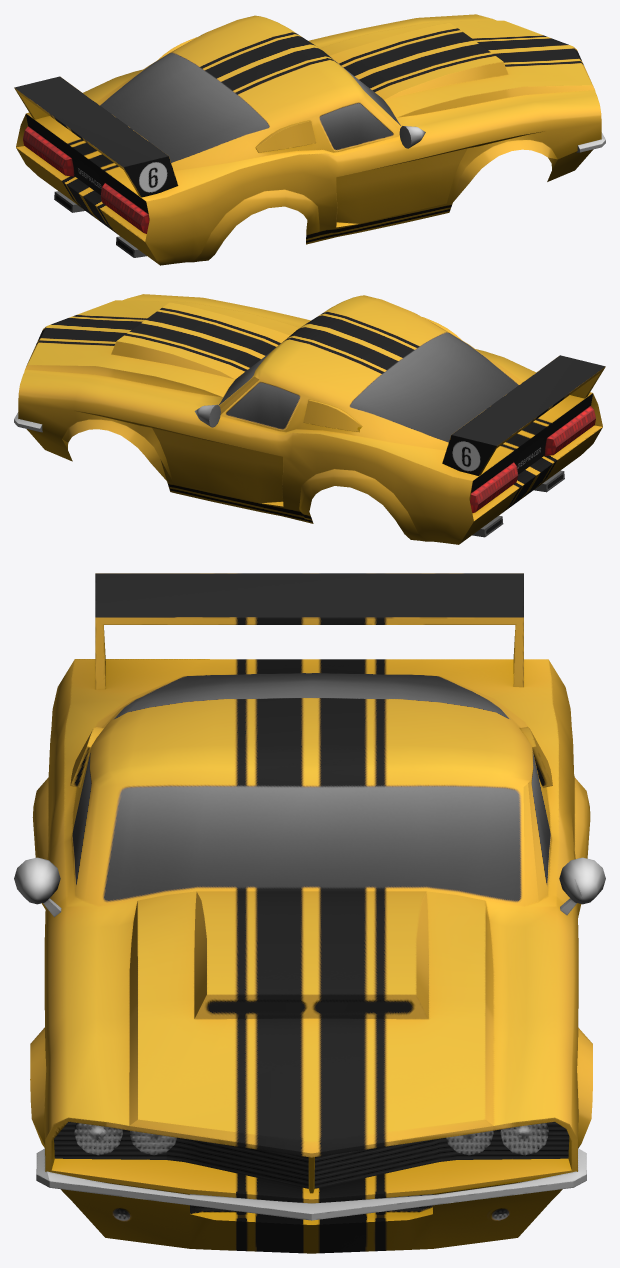
The model's file is f1_mustang_eleanor_03.dae.
3 views of the same model, one above another, from view 1: azimuth 30°, elevation 25°; view 2: azimuth 150°, elevation 25°; view 3: azimuth 270°, elevation 25° (orthographic). The views are drawn at different scales.
Visible parts, largest first — view 1: eleanor_stripes_body001; view 2: eleanor_stripes_body001; view 3: eleanor_stripes_body001.
Boxes of the visible parts, bbox=[...] form: eleanor_stripes_body001: bbox=[14, 14, 605, 265]; eleanor_stripes_body001: bbox=[14, 294, 605, 544]; eleanor_stripes_body001: bbox=[14, 573, 605, 1253].
Size of the model in its own units: 0.3485 by 0.1784 by 0.0933.
1 material, 1 textured.
